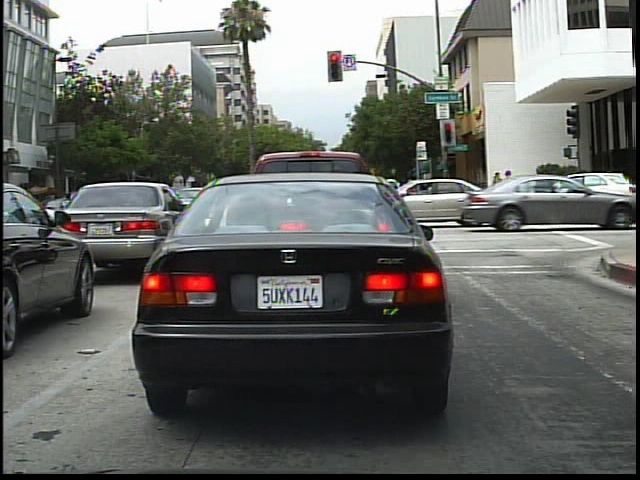person: (485, 168, 506, 211), (502, 166, 521, 209)
